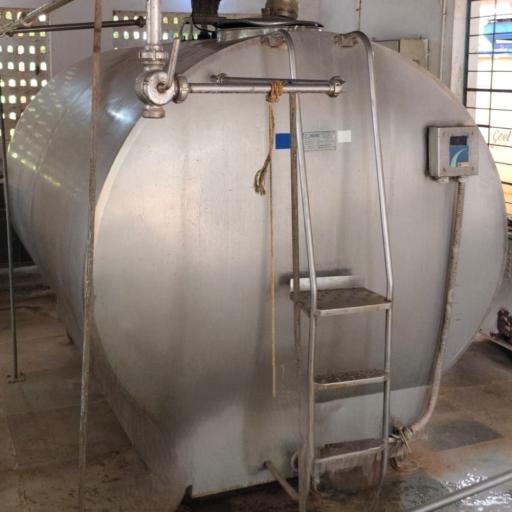silo: (0, 17, 510, 499)
